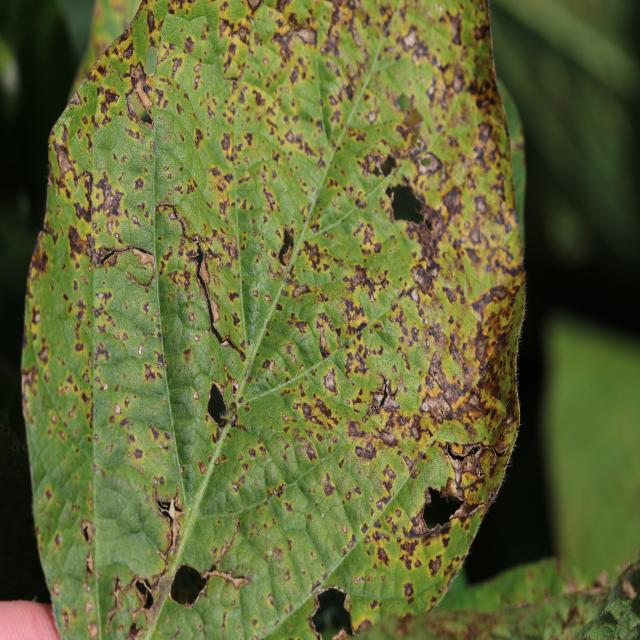Bacterial_Blight: (394, 200, 447, 280), (468, 283, 516, 330), (106, 7, 146, 62), (91, 172, 126, 222), (127, 63, 154, 124), (342, 262, 384, 297), (154, 201, 191, 236), (97, 227, 125, 271), (206, 382, 232, 428), (105, 573, 125, 631), (53, 135, 77, 182), (205, 567, 251, 591), (438, 475, 471, 506), (216, 330, 246, 360), (415, 150, 443, 181), (445, 441, 481, 464), (67, 223, 90, 258), (132, 577, 154, 612), (156, 493, 180, 525), (29, 241, 50, 277), (278, 228, 295, 267), (384, 374, 403, 400), (99, 86, 120, 109), (403, 107, 424, 129), (293, 27, 317, 46), (379, 154, 397, 178), (431, 364, 447, 391), (351, 617, 374, 635), (354, 444, 375, 463), (323, 368, 338, 394), (318, 325, 330, 357), (347, 419, 366, 439), (598, 610, 620, 627), (620, 577, 637, 599), (491, 440, 511, 457), (38, 223, 57, 240), (371, 391, 386, 412), (126, 622, 143, 639), (37, 342, 50, 364), (85, 550, 95, 578), (183, 36, 195, 54), (221, 133, 231, 152), (306, 444, 317, 461), (82, 524, 91, 543), (152, 475, 164, 486), (54, 533, 63, 546), (368, 111, 377, 124), (249, 17, 255, 28), (83, 373, 89, 382)
Soybean: (22, 0, 525, 640)
